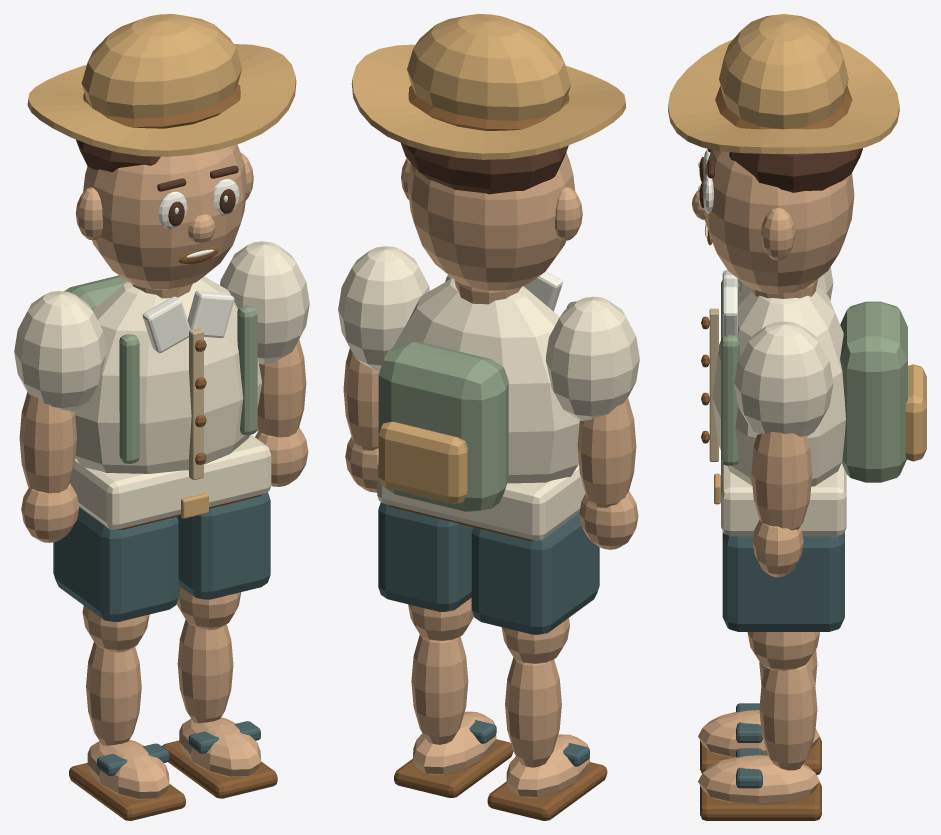
The model's file is HNP_Traveller.fbx.
The picture shows the model from 3 angles, left to right: view 1: azimuth 30°, elevation 25°; view 2: azimuth 150°, elevation 25°; view 3: azimuth 270°, elevation 25°; orthographic projection. The views are drawn at different scales.
Parts seen in each view (by area): view 1: HNP_Head, HNP_Body, HNP_LegL, HNP_LegR, HNP_ArmL, HNP_ArmR; view 2: HNP_Head, HNP_Body, HNP_LegL, HNP_LegR, HNP_ArmL, HNP_ArmR; view 3: HNP_Head, HNP_Body, HNP_LegR, HNP_ArmR, HNP_LegL.
Boxes of the visible parts, box(x1,y1,x2,y2) form: HNP_Head: box(27, 14, 296, 289); HNP_Body: box(64, 275, 271, 529); HNP_LegL: box(53, 506, 185, 820); HNP_LegR: box(162, 492, 277, 798); HNP_ArmL: box(14, 291, 106, 542); HNP_ArmR: box(220, 241, 309, 486); HNP_Head: box(351, 14, 626, 290); HNP_Body: box(377, 271, 585, 540); HNP_LegL: box(471, 512, 607, 820); HNP_LegR: box(378, 502, 513, 797); HNP_ArmL: box(546, 296, 639, 549); HNP_ArmR: box(338, 246, 429, 492); HNP_Head: box(668, 14, 899, 294); HNP_Body: box(701, 270, 926, 535); HNP_LegR: box(698, 531, 844, 820); HNP_ArmR: box(734, 321, 833, 577); HNP_LegL: box(698, 649, 821, 774).
Bounding box in the file's own units: 86 × 220 × 67.84.
